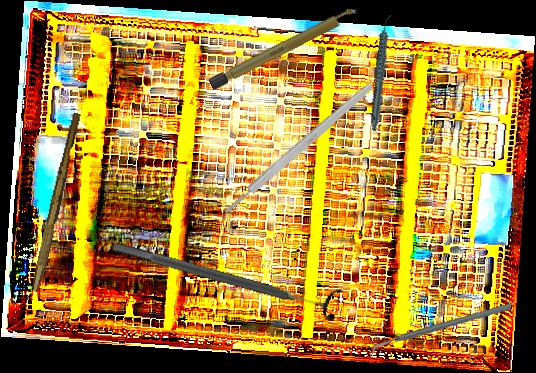Chopper: (369, 286, 512, 373)
Fixation Ring: (107, 228, 344, 325)
Handpiece: (347, 13, 416, 132)
Scalpel Handle: (222, 81, 375, 216), (208, 4, 361, 91), (31, 111, 82, 294)
